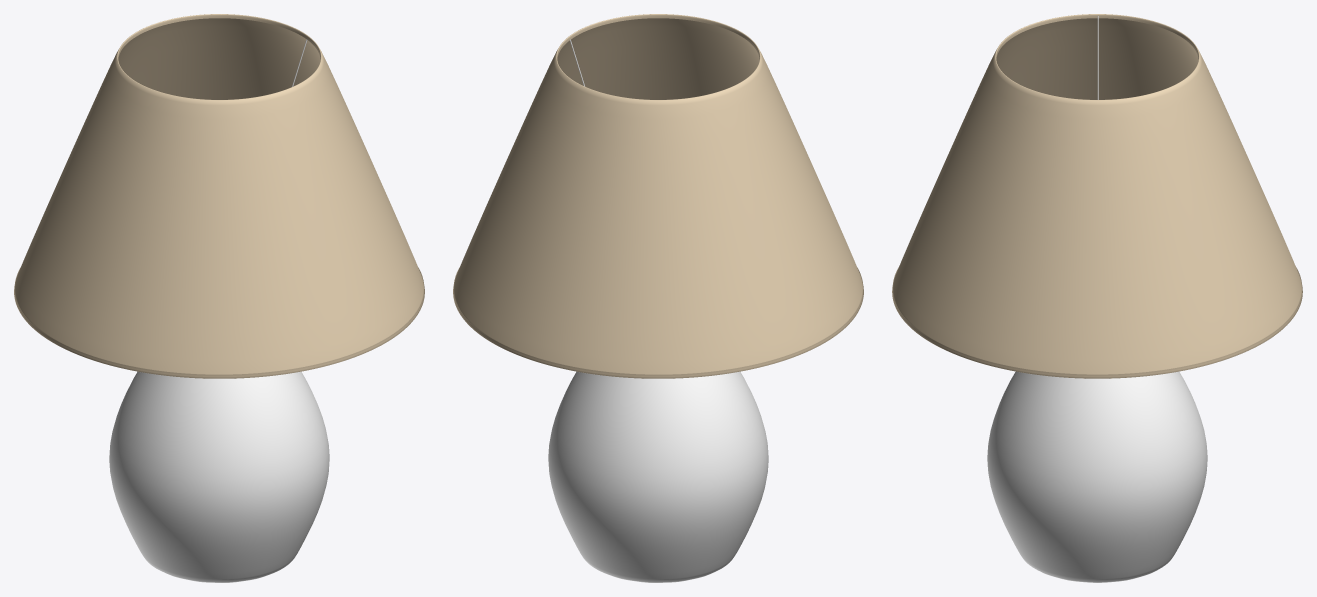
Rendered from Lamp.fbx.
3 views of the same model, side by side, from view 1: azimuth 30°, elevation 25°; view 2: azimuth 150°, elevation 25°; view 3: azimuth 270°, elevation 25° (orthographic).
Visible parts, largest first — view 1: Lamp; view 2: Lamp; view 3: Lamp.
Boxes of the visible parts, x1,y1,x2,y2 form: Lamp: [14, 14, 424, 582]; Lamp: [453, 14, 863, 582]; Lamp: [892, 14, 1302, 582].
Bounding box in the file's own units: 0.3148 × 0.4186 × 0.3148.
